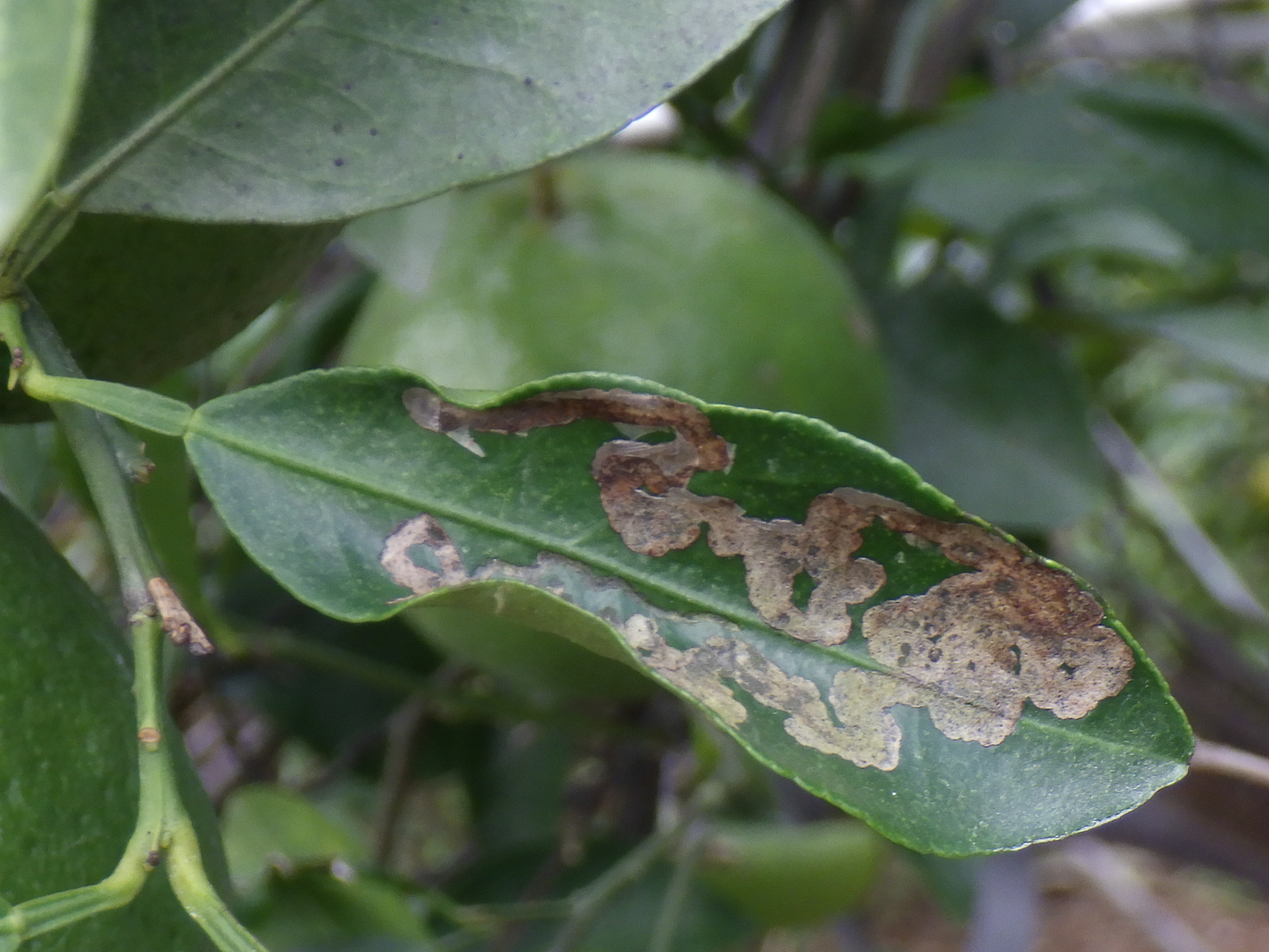Citrus_Leaf_Miner: (403, 387, 1135, 771), (474, 553, 659, 654), (380, 514, 472, 594)
